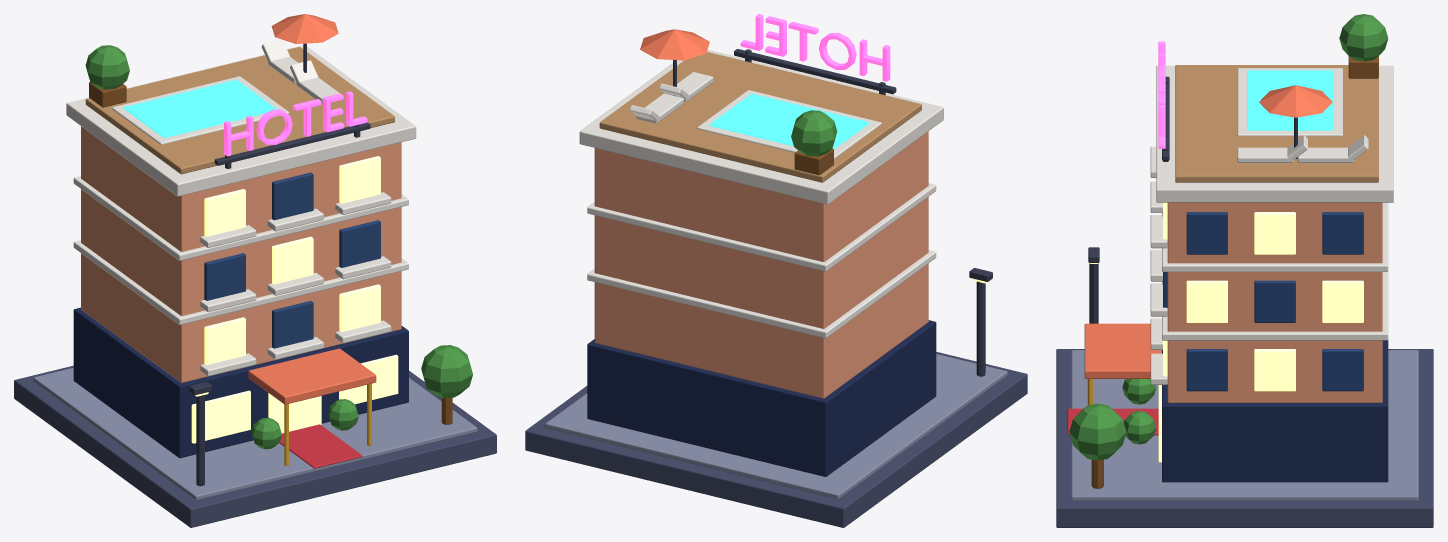
The model's file is hotel.glb.
3 views of the same model, side by side, from view 1: azimuth 30°, elevation 25°; view 2: azimuth 150°, elevation 25°; view 3: azimuth 270°, elevation 25° (orthographic). The views are drawn at different scales.
Visible parts, largest first — view 1: Hotel; view 2: Hotel; view 3: Hotel.
Boxes of the visible parts, <box> form: Hotel: <box>14,14,496,527</box>; Hotel: <box>525,14,1027,527</box>; Hotel: <box>1056,14,1433,527</box>.
Bounding box in the file's own units: 2 × 2.35 × 2.
